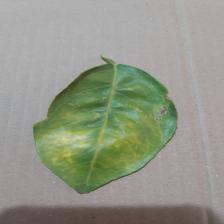greening: (34, 117, 147, 182)
